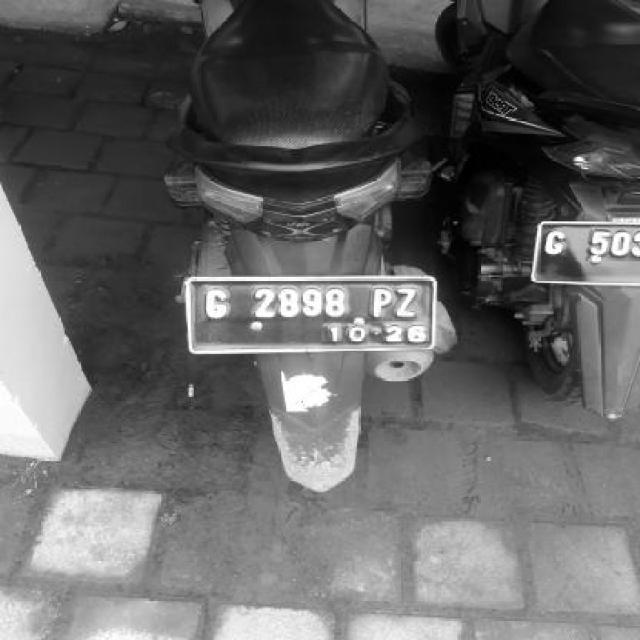2: (250, 285, 276, 318)
8: (323, 286, 352, 324), (280, 286, 301, 322)
9: (302, 284, 324, 324)
G: (200, 286, 238, 328)
P: (373, 284, 393, 324)
Z: (397, 286, 422, 320)
